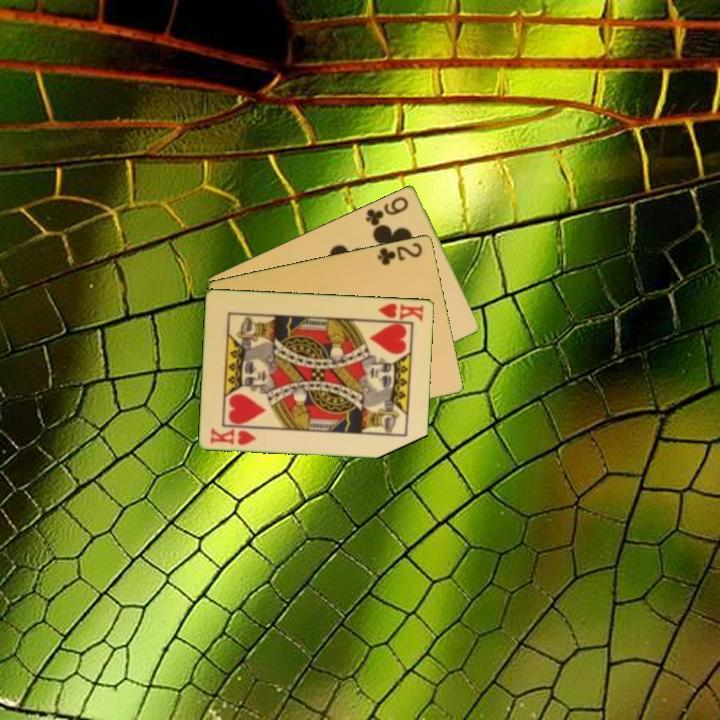2c: (374, 239, 425, 268)
9c: (362, 192, 412, 229)
Kh: (371, 299, 427, 324), (207, 424, 260, 448)
